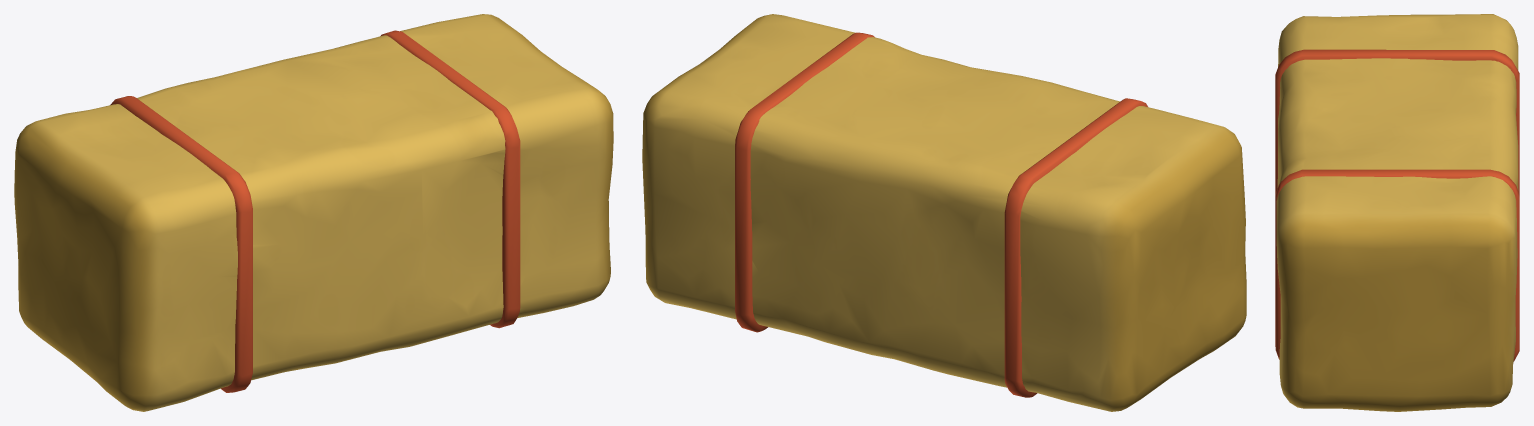
The model's file is square_hay_bale.glb.
The picture shows the model from 3 angles, left to right: view 1: azimuth 30°, elevation 25°; view 2: azimuth 150°, elevation 25°; view 3: azimuth 270°, elevation 25°; orthographic projection. The views are drawn at different scales.
Visible parts, largest first — view 1: square_hay_bale_straw, square_hay_bale_twine; view 2: square_hay_bale_straw, square_hay_bale_twine; view 3: square_hay_bale_straw, square_hay_bale_twine.
Boxes of the visible parts, bbox=[...] form: square_hay_bale_straw: bbox=[14, 14, 613, 411]; square_hay_bale_twine: bbox=[110, 30, 520, 392]; square_hay_bale_straw: bbox=[642, 14, 1246, 411]; square_hay_bale_twine: bbox=[735, 32, 1147, 397]; square_hay_bale_straw: bbox=[1276, 14, 1518, 411]; square_hay_bale_twine: bbox=[1275, 49, 1519, 361].
Bounding box in the file's own units: 1.11 × 0.4675 × 0.5177.
Materials: 1 (1 with a texture image).
